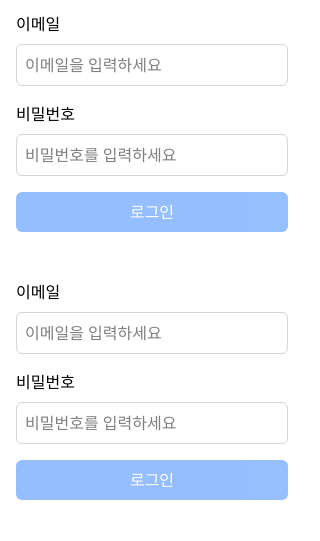
로그인 폼 테스트 › 유효성 검사 › 이메일 잘못 입력 시 '올바른 이메일 형식이 아닙니다.'라는 에러 메시지가 표시되는지 확인
# 잘못된 이메일 입력
Type "invalid-email" into the field labelled "이메일" at coordinates (152, 65), box [16,44,288,86]
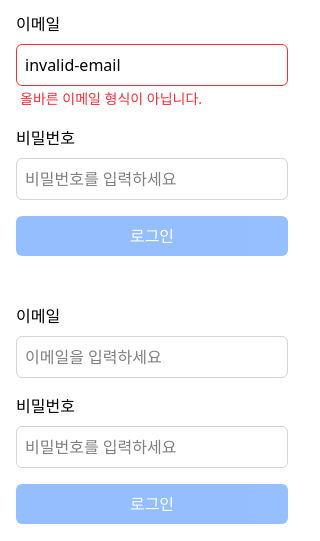
Result: the text "올바른 이메일 형식이 아닙니다." is shown at [20,89,202,108]
